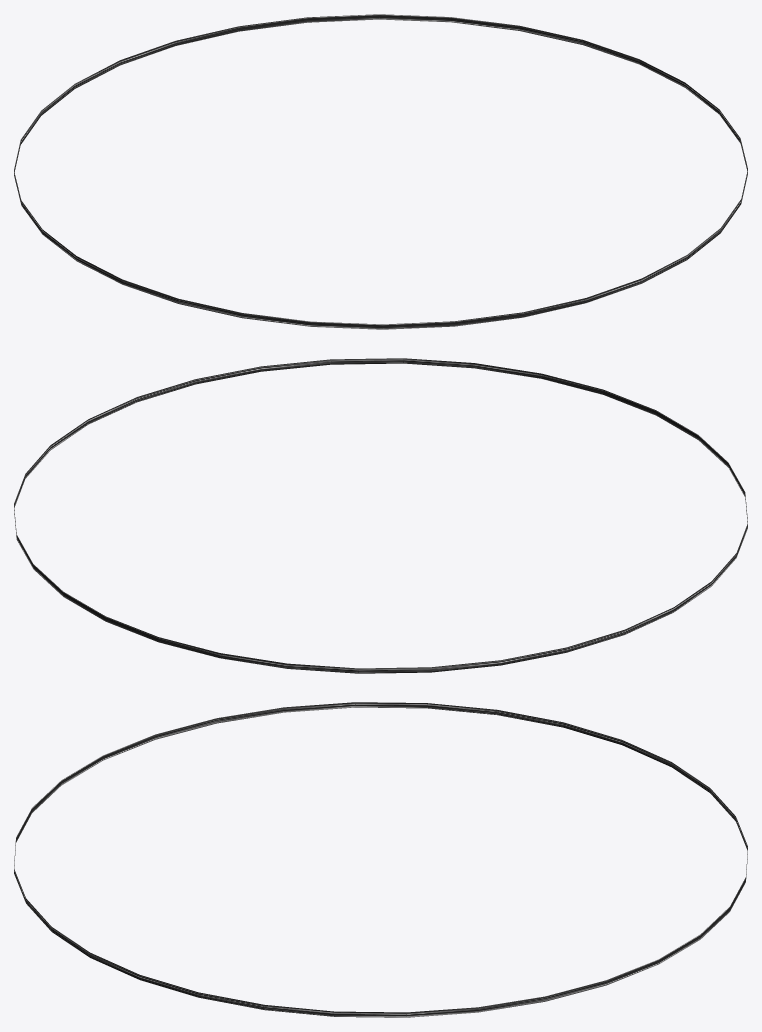
The model's file is yunhuang03.fbx.
3 renders of one model, top to bottom at view 1: azimuth 30°, elevation 25°; view 2: azimuth 150°, elevation 25°; view 3: azimuth 270°, elevation 25°, orthographic.
Parts seen in each view (by area): view 1: yunhuang03; view 2: yunhuang03; view 3: yunhuang03.
Boxes of the visible parts, bbox=[...] form: yunhuang03: bbox=[14, 14, 747, 329]; yunhuang03: bbox=[14, 358, 747, 673]; yunhuang03: bbox=[14, 702, 747, 1017].
Size of the model in its own units: 5.42 by 0.0434 by 5.42.
Materials: 1 (1 with a texture image).
